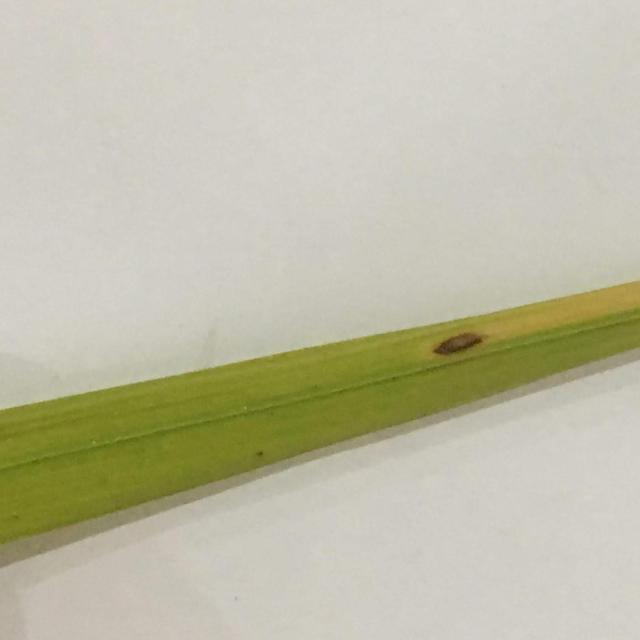Leaf blast: (0, 271, 640, 571)
